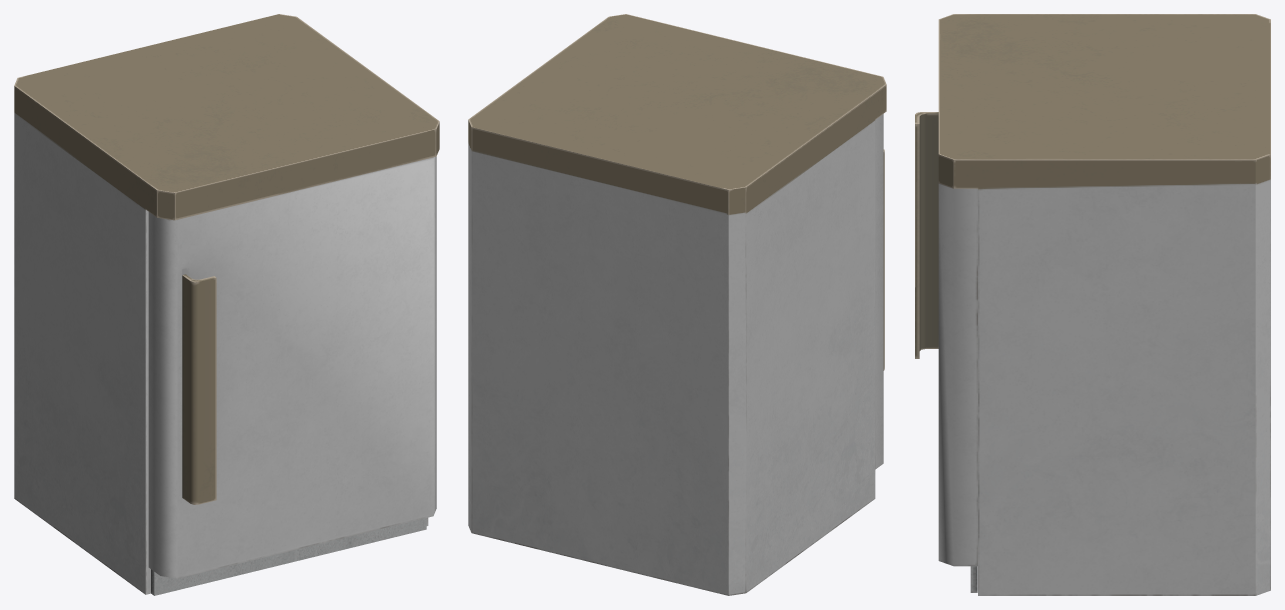
File: 恒温箱.glb
3 views of the same model, side by side, from view 1: azimuth 30°, elevation 25°; view 2: azimuth 150°, elevation 25°; view 3: azimuth 270°, elevation 25° (orthographic). The views are drawn at different scales.
Parts seen in each view (by area): view 1: 冰箱, 冰箱门; view 2: 冰箱, 冰箱门; view 3: 冰箱, 冰箱门.
Part boxes in pixels (box(x1,y1,x2,y2)): 冰箱: box(14, 14, 439, 595); 冰箱门: box(148, 156, 436, 578); 冰箱: box(468, 14, 886, 595); 冰箱门: box(875, 114, 884, 469); 冰箱: box(938, 14, 1270, 595); 冰箱门: box(915, 112, 977, 566).
Bounding box in the file's own units: 0.7602 × 1.06 × 0.7847.
1 material, 1 textured.
